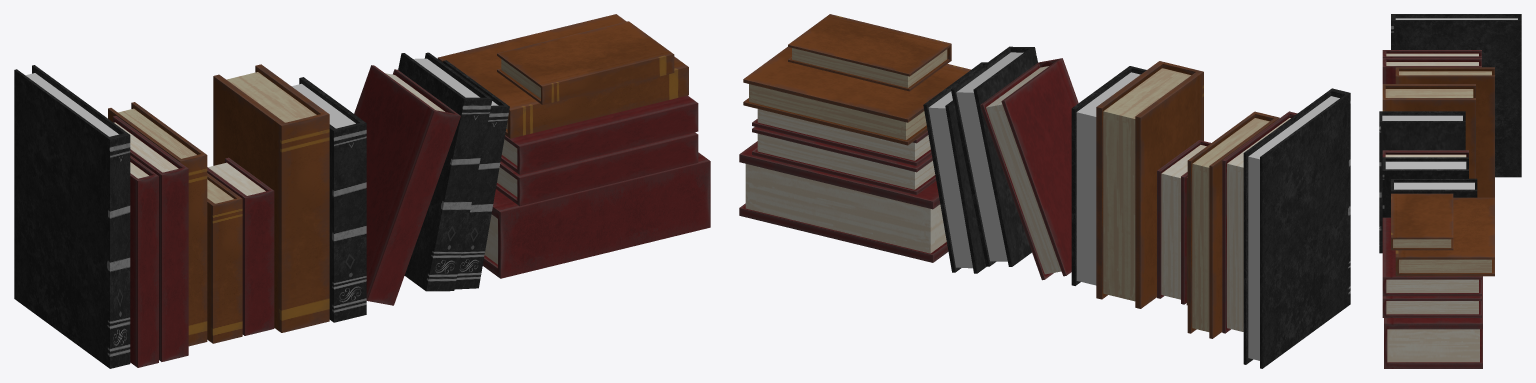
Rendered from BookShelf_ShelfRow_05.fbx.
3 renders of one model, left to right at view 1: azimuth 30°, elevation 25°; view 2: azimuth 150°, elevation 25°; view 3: azimuth 270°, elevation 25°, orthographic. The views are drawn at different scales.
Visible parts, largest first — view 1: polySurface277; view 2: polySurface277; view 3: polySurface277.
Boxes of the visible parts, left/top/right/bottom form: polySurface277: left=14, top=14, right=710, bottom=368; polySurface277: left=739, top=14, right=1350, bottom=368; polySurface277: left=1379, top=14, right=1521, bottom=368.
Size of the model in its own units: 3.08 by 1.18 by 0.9345.
